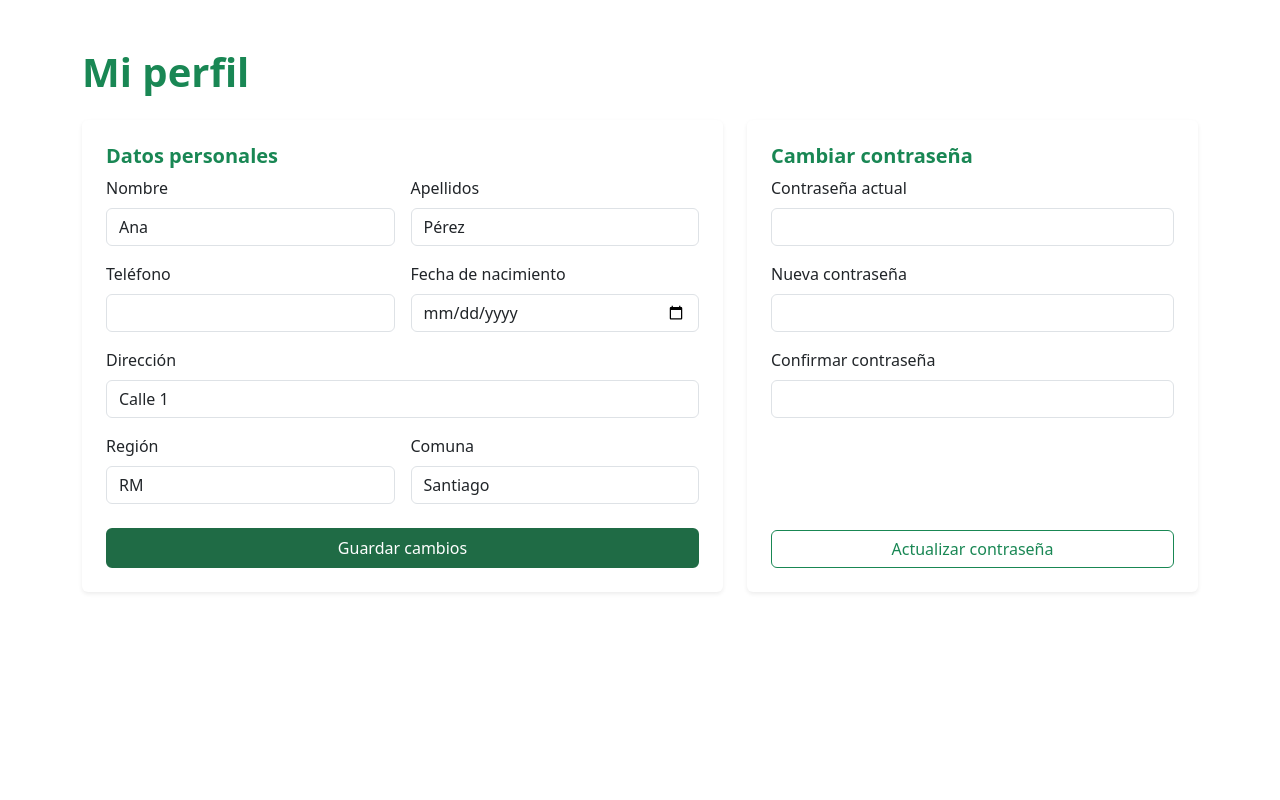
ProfilePage › guarda el perfil, avisa al padre y muestra confirmación
Replace the text in the field labelled "Nombre" with "Anita": (250, 227) x1=106 y1=208 x2=394 y2=246
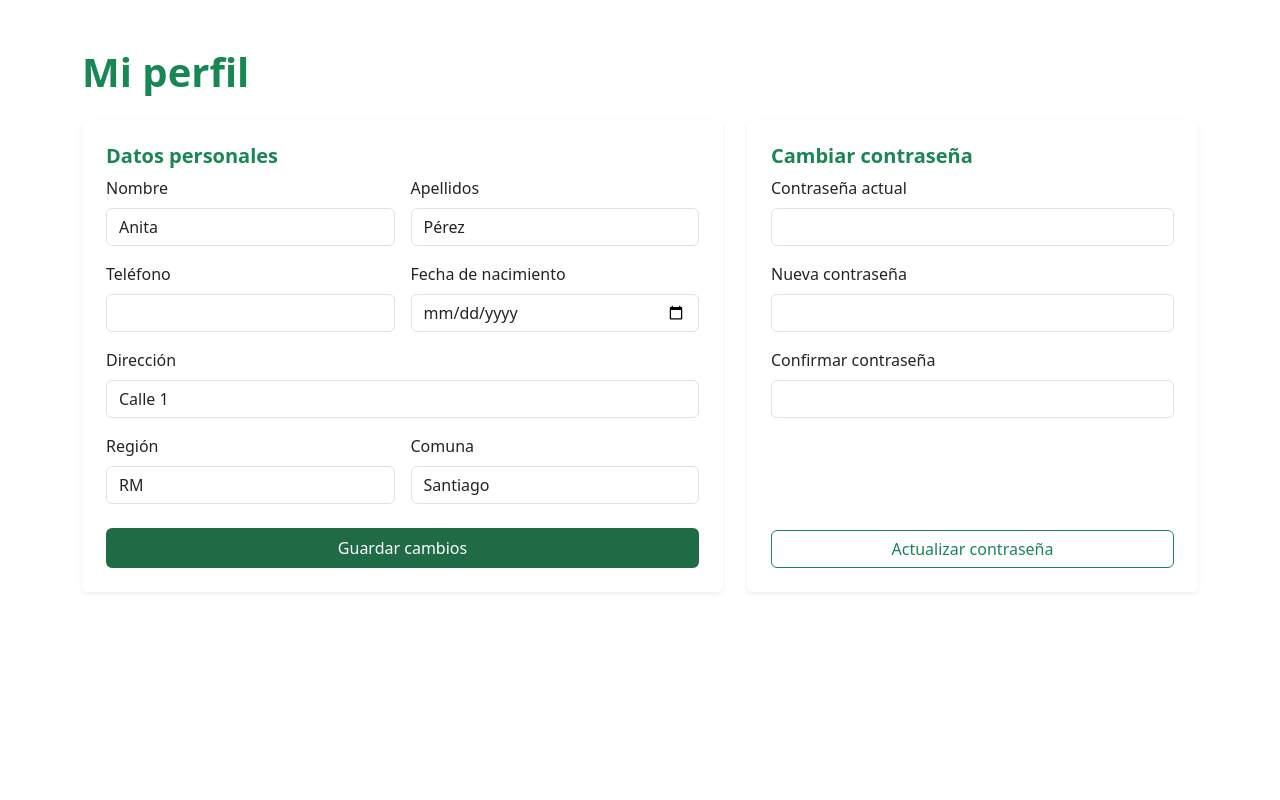
Click the button "Guardar cambios": (402, 548) x1=106 y1=528 x2=699 y2=568
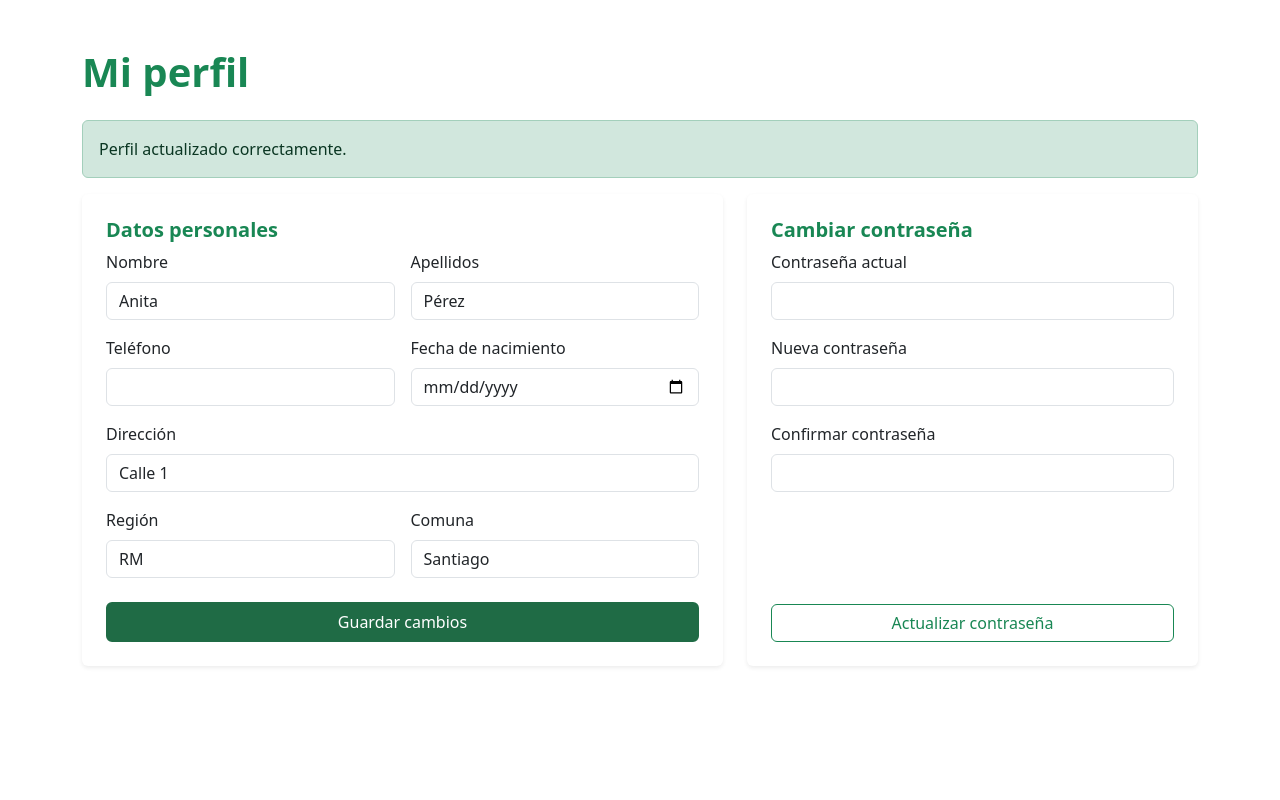
Check: the text "Perfil actualizado correctamente." is shown, box x1=82 y1=120 x2=1198 y2=178
